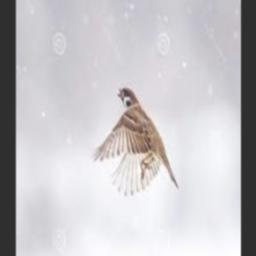Sparrow: (90, 87, 179, 196)
